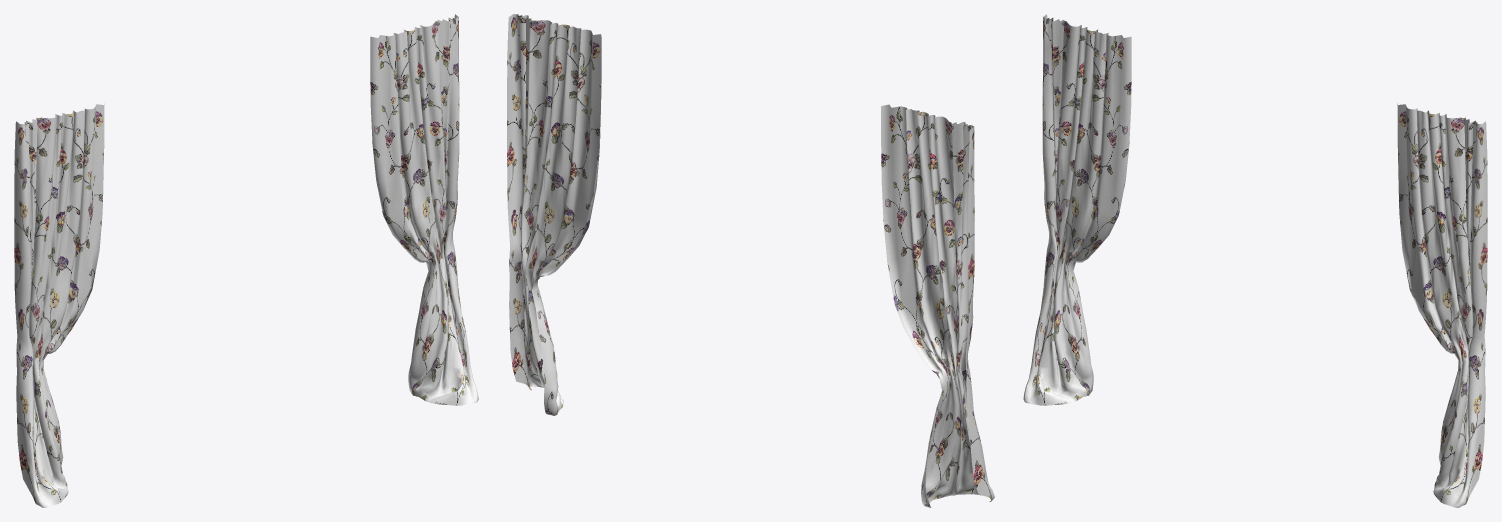
The picture shows the model from 3 angles, left to right: view 1: azimuth 30°, elevation 25°; view 2: azimuth 150°, elevation 25°; view 3: azimuth 330°, elevation 25°; orthographic projection. The views are drawn at different scales.
Visible parts, largest first — view 1: UP01_2; view 2: UP01_2; view 3: UP01_2.
Boxes of the visible parts, x1,y1,x2,y2 form: UP01_2: (14, 14, 478, 507); UP01_2: (507, 14, 994, 507); UP01_2: (1023, 14, 1487, 507).
Bounding box in the file's own units: 3843 × 3078 × 446.
